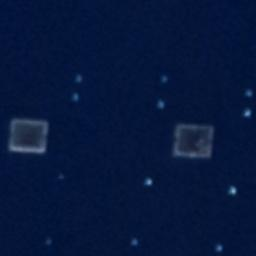square_cover: (170, 118, 218, 163), (6, 113, 52, 157)
